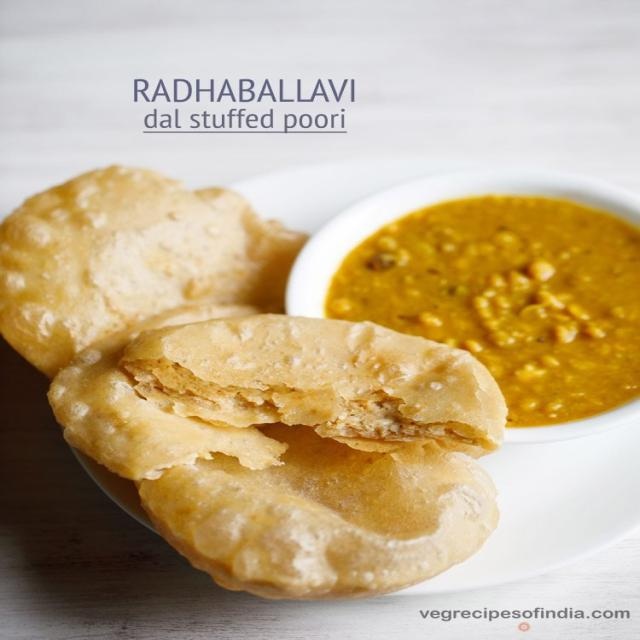puri: (5, 174, 286, 639), (311, 322, 472, 590)
